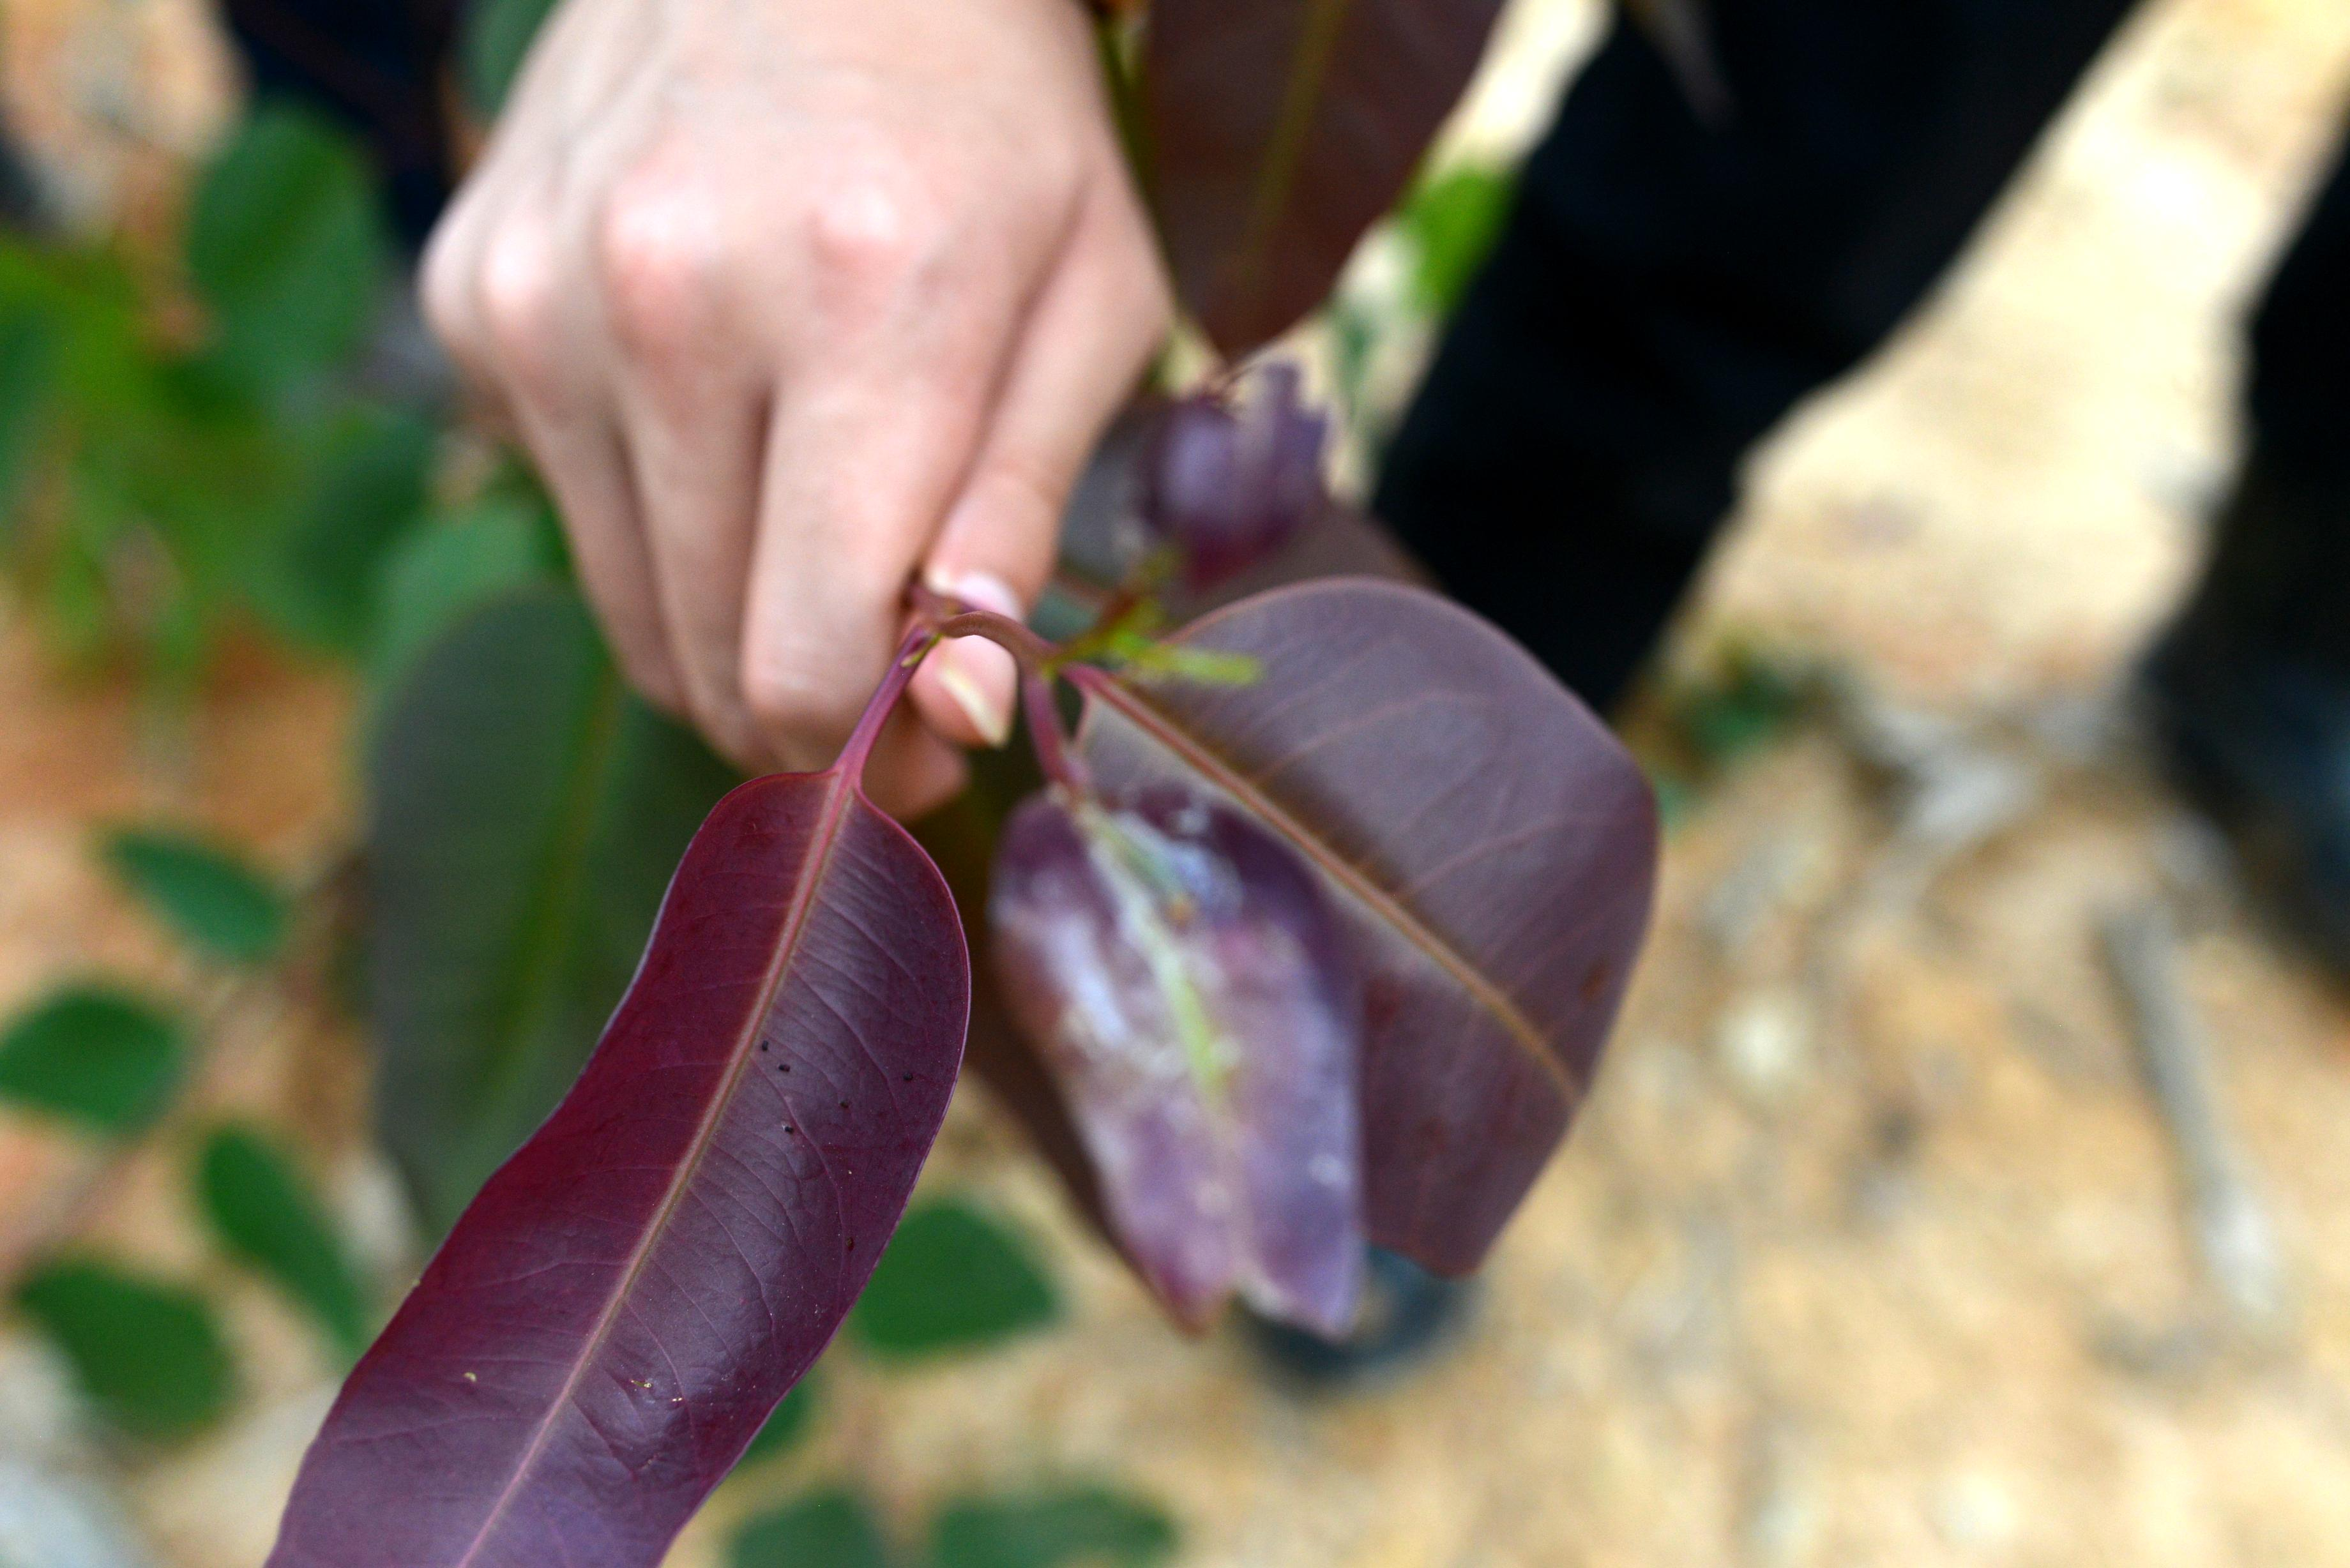Leaf Roller - Leaf: (987, 767, 1381, 1350)
